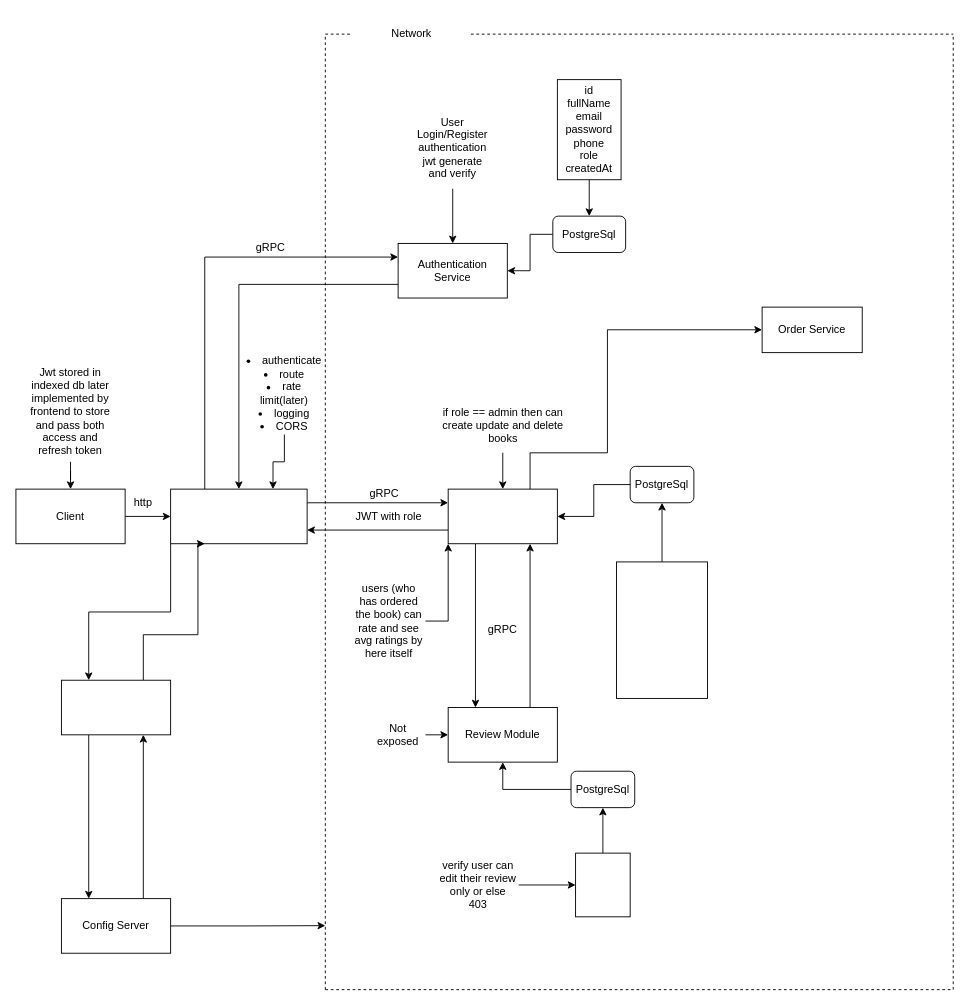
The diagram is 970 pixels wide and 1006 high, and some of its shapes have lost their labels. The shapes that lost their labels are listed below. From the top down, each one's centre as x and y in pixels, then its label:
At (x=238, y=516): "Api gateway".
At (x=502, y=516): "Book Module".
At (x=662, y=629): "id title author ISBN description price stock category publishedDate".
At (x=116, y=707): "Eureka Discovery".
At (x=602, y=884): "Rating review avg rating".
